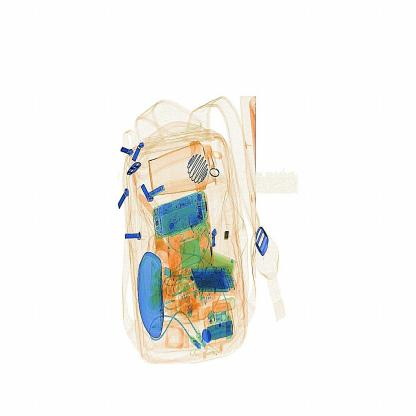wrench: (220, 224, 236, 247)
